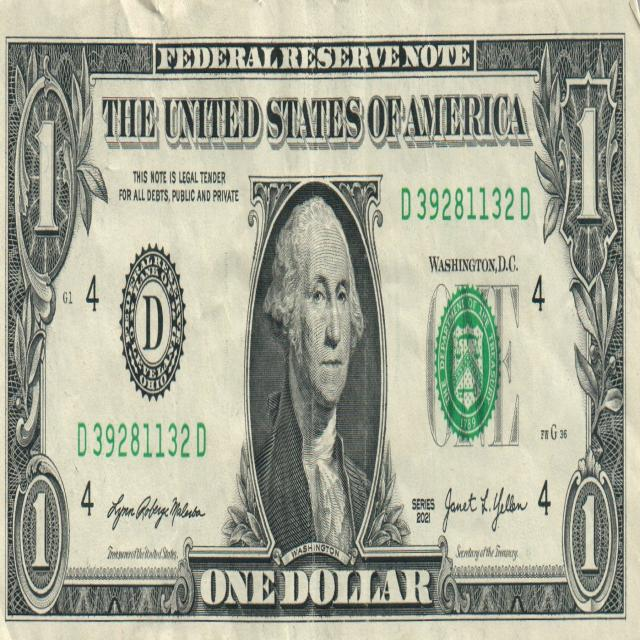SerialNumber: (78, 423, 205, 458), (413, 187, 530, 221)
